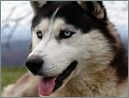dog: (2, 1, 128, 97)
